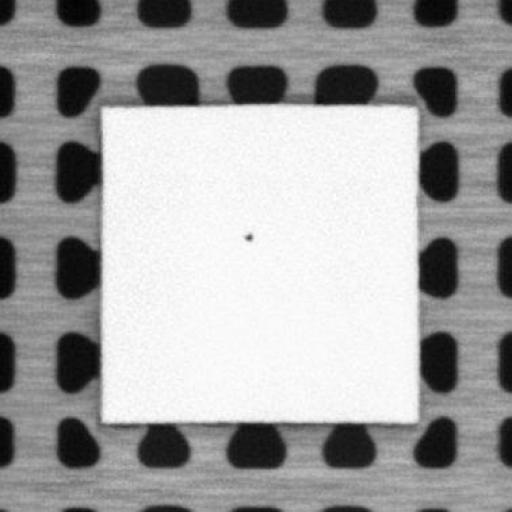DIE_INK: (241, 228, 255, 243)
